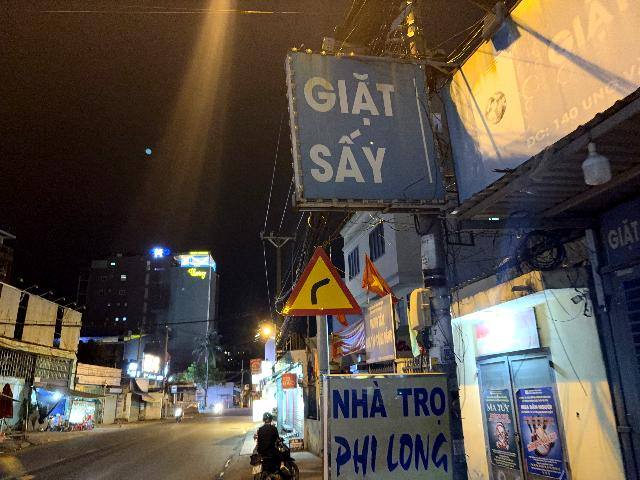cho-ngoat-nguy-hiem-ben-phai: (280, 244, 365, 315)
